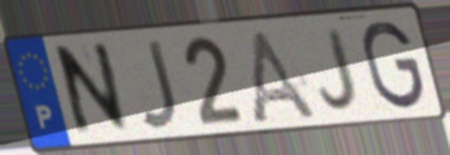2: (184, 32, 250, 130)
A: (247, 25, 323, 122)
G: (359, 18, 427, 113)
J: (136, 36, 181, 132), (316, 25, 360, 114)
N: (55, 38, 133, 143)
